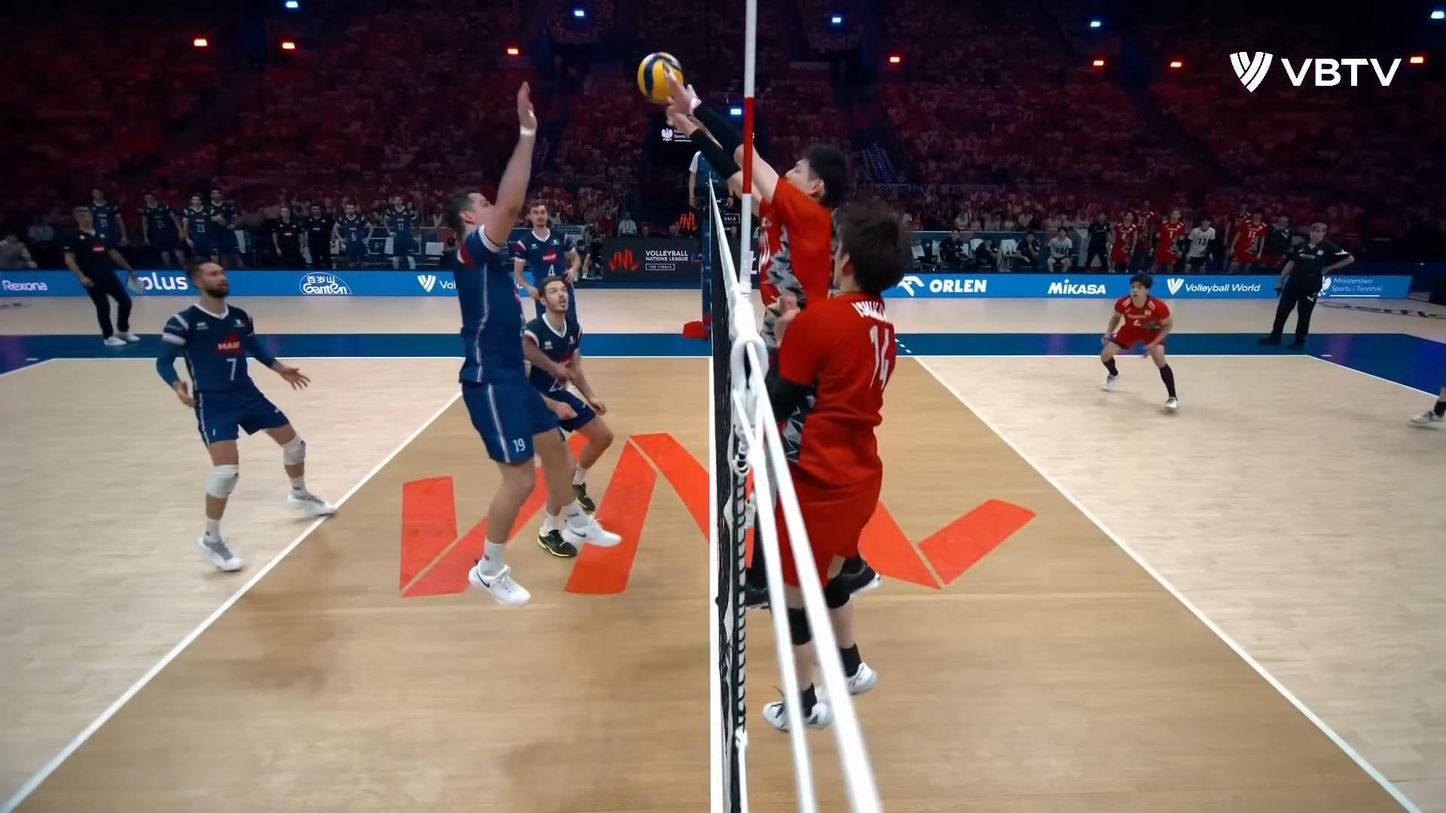ball: (637, 50, 687, 103)
